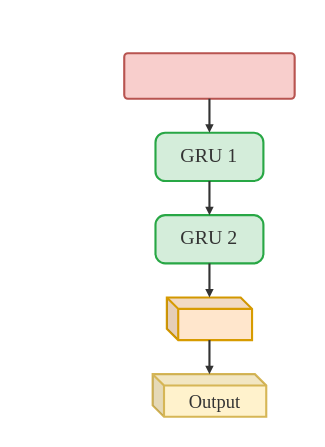
Some shapes in this 325 by 447 pixel diagram are drawn without their labels. The shapes that lost their labels are listed below. From the top down, each one's centre as x and y in pixels, then its label:
At [209,75]: "Sequence Input".
At [208,318]: "FC".
